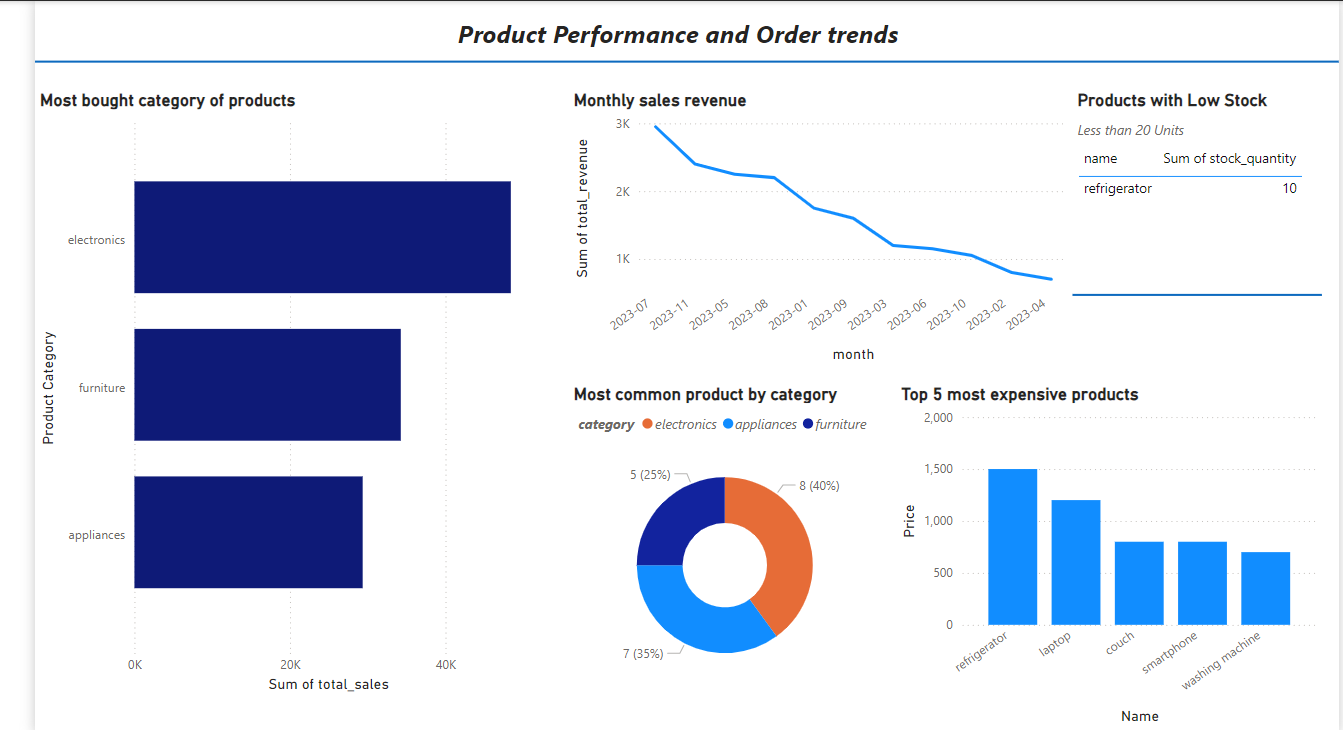

What the dashboard file says about the page in this screenshot:
{"tool":"powerbi","page":{"name":"Sales Analysis","canvas":[1280,720],"ordinal":0},"visuals":[{"type":"lineChart","title":"Monthly sales revenue","fields":{"Category":["Query2.month"],"Y":["Sum(Query2.total_revenue)"]},"box":[523.9,87.1,494.5,272.4],"z":1000},{"type":"donutChart","title":"Most common product by category","fields":{"Category":["Query3.category"],"Y":["Sum(Query3.total_products)"]},"box":[523.9,375.5,306.8,308],"z":2000},{"type":"clusteredColumnChart","title":"Top 5 most expensive products","fields":{"Category":["Query4.name"],"Y":["Sum(Query4.price)"]},"box":[845.4,375.5,418.4,339.9],"z":3000},{"type":"tableEx","title":"Products with Low Stock","fields":{"Values":["Query5.name","Sum(Query5.stock_quantity)"]},"box":[1018.4,87.1,245.4,126.4],"z":4000},{"type":"textbox","box":[342.3,11,577.9,61.4],"z":4001},{"type":"barChart","title":"Most bought category of products","fields":{"Category":["Query6.product_category"],"Y":["Sum(Query6.total_sales)"]},"box":[0,87.1,494.5,596.3],"z":4002},{"type":"shape","box":[1018,213,245,150],"z":4003},{"type":"shape","box":[0,31.9,1279.8,55.2],"z":4004}]}

Visuals, with their boxes on the page's 1280x720 design canvas (x1, y1, x2, y2). These are canvas units, not pixel positions in the 1343x730 screenshot, which may show the page scaled, cropped or inside an application window:
"Monthly sales revenue" lineChart: (524,87,1018,360)
"Most common product by category" donutChart: (524,376,831,684)
"Top 5 most expensive products" clusteredColumnChart: (845,376,1264,715)
"Products with Low Stock" tableEx: (1018,87,1264,214)
textbox: (342,11,920,72)
"Most bought category of products" barChart: (0,87,494,683)
shape: (1018,213,1263,363)
shape: (0,32,1280,87)
